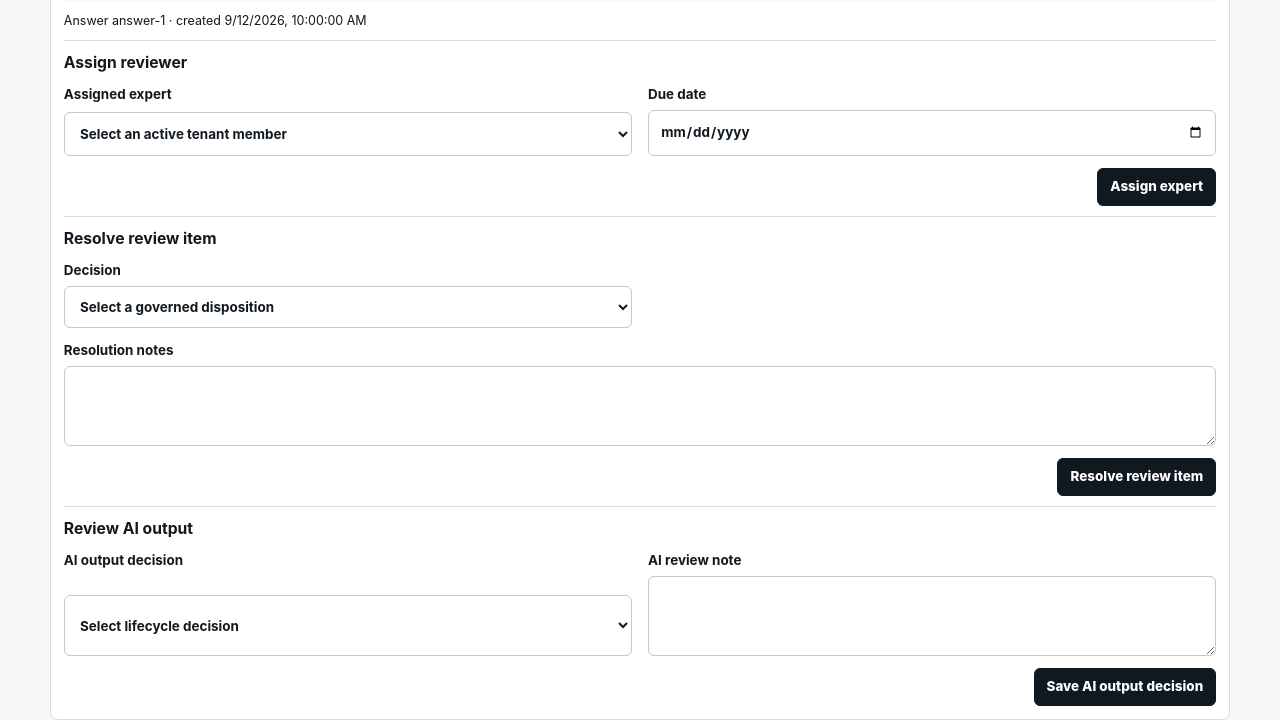
Test: ExpertReviewQueuePanel › records a governed AI output approval with the current version
The width and height of the screenshot is (1280, 720).
(page scrolled)
Select "Approve" in the dropdown labelled "AI output decision" at coordinates (348, 626), box left=64, top=595, right=632, bottom=656
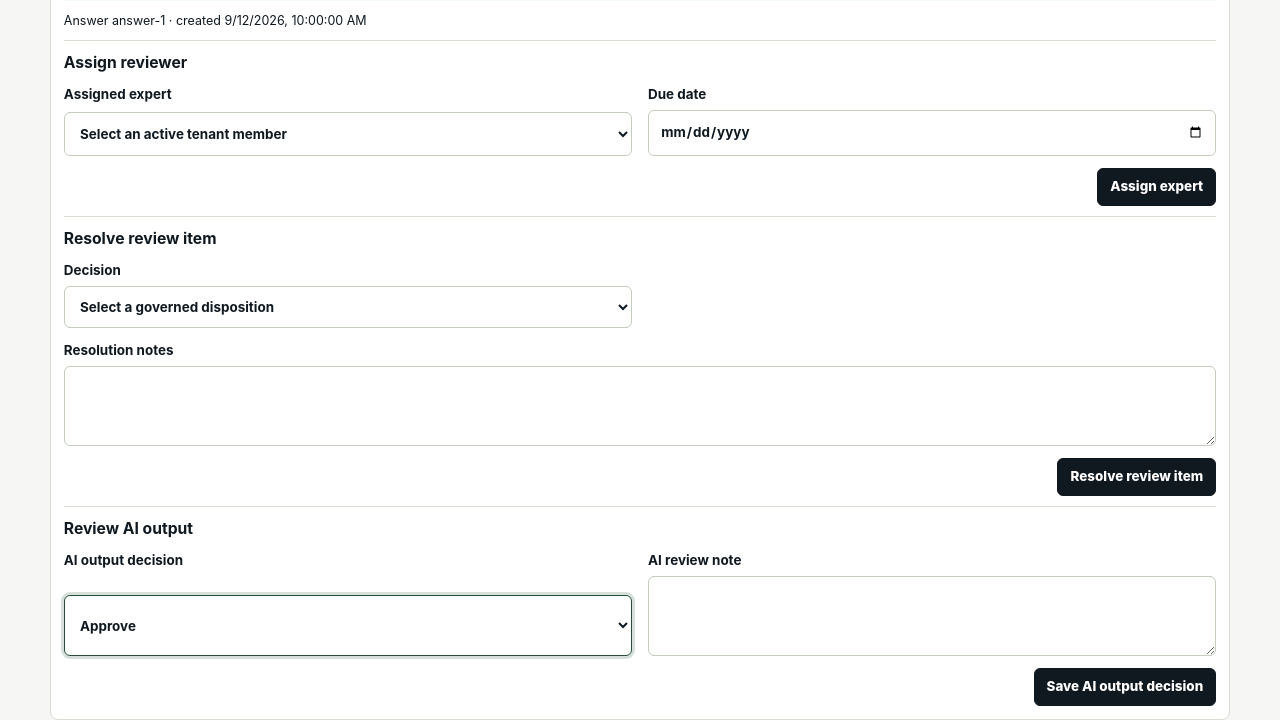
Type "Sources verified." into the text box labelled "AI review note" at coordinates (932, 616), box left=648, top=576, right=1216, bottom=656
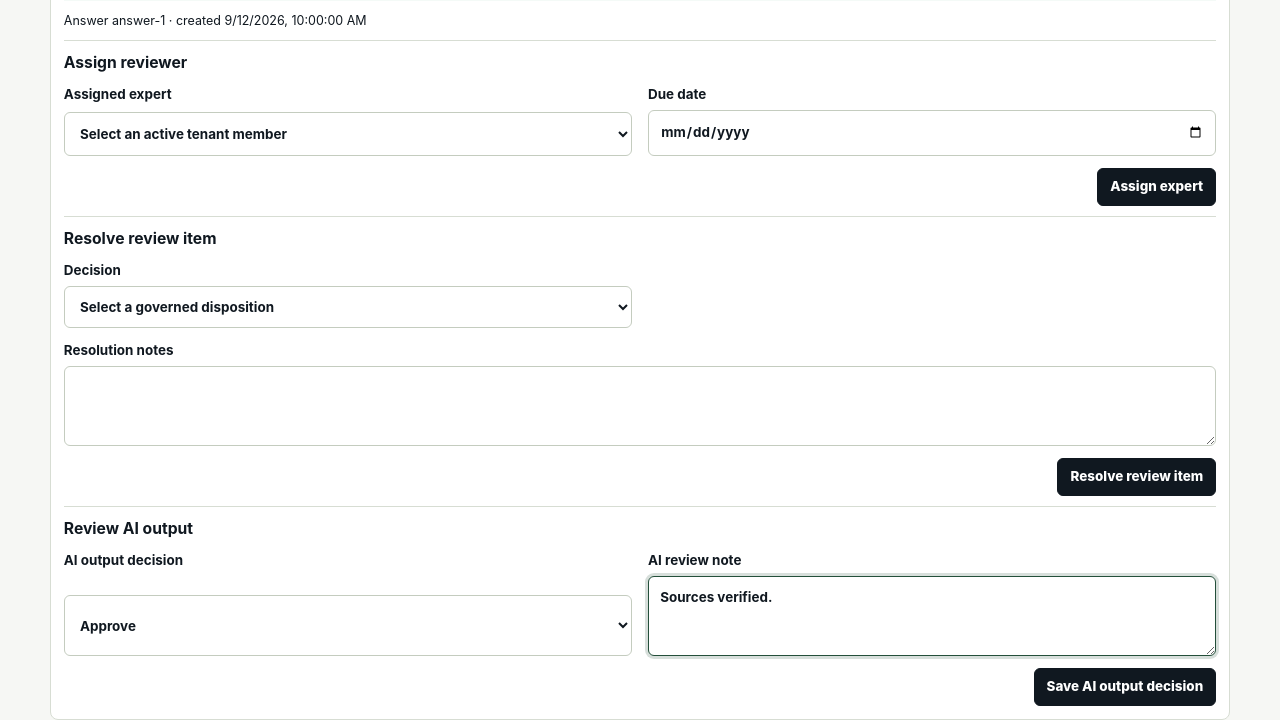
Click the button "Save AI output decision" at coordinates (1125, 687), box left=1034, top=668, right=1216, bottom=706
(page scrolled)
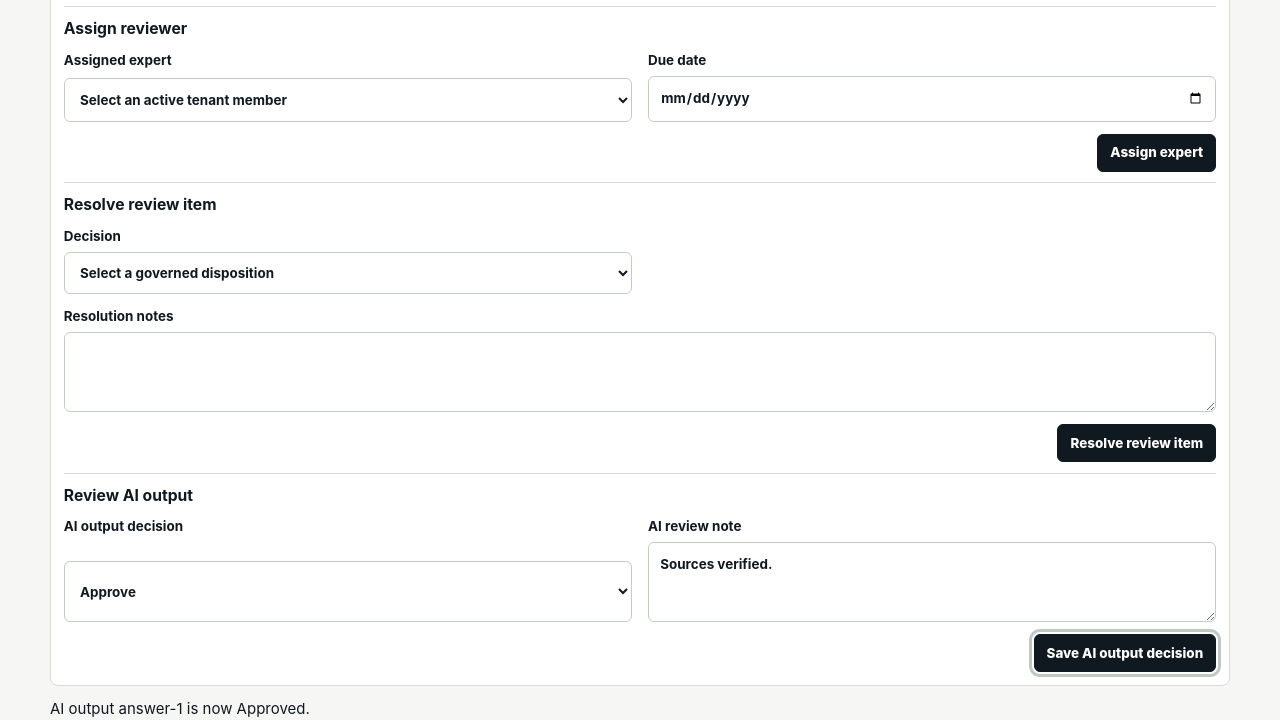
Check: the text "AI output answer-1 is now Approved." is shown, box left=50, top=699, right=310, bottom=718
